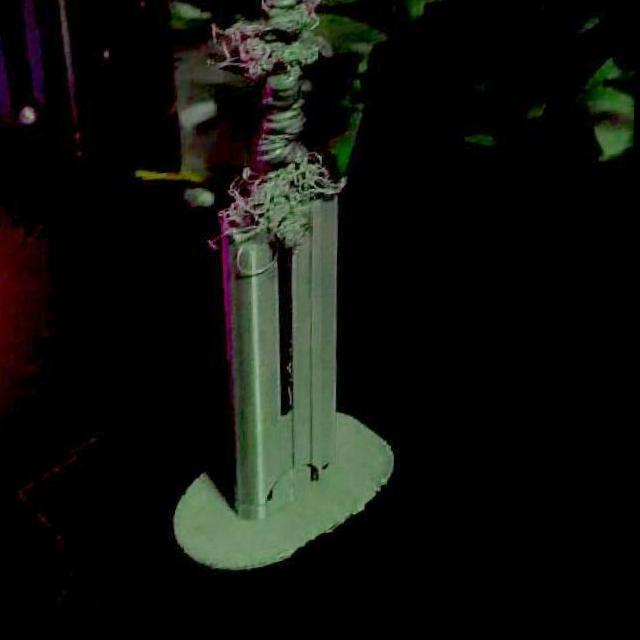spaghetti: (206, 0, 359, 289)
